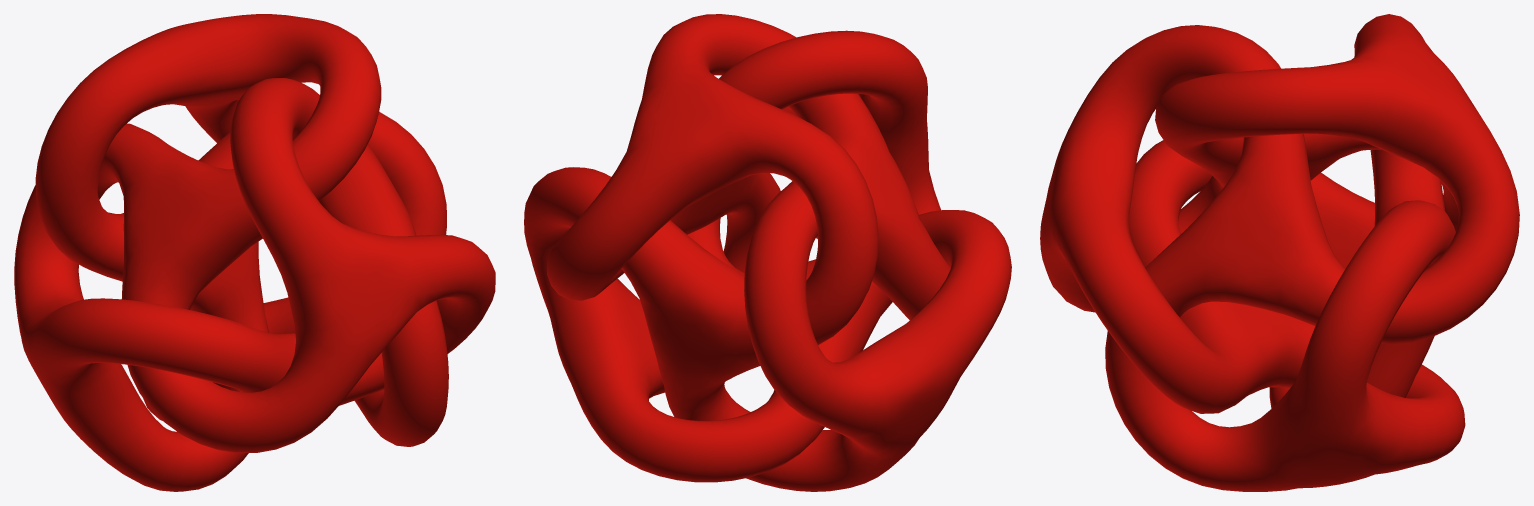
The model's file is prova.obj.
3 renders of one model, left to right at view 1: azimuth 30°, elevation 25°; view 2: azimuth 150°, elevation 25°; view 3: azimuth 270°, elevation 25°, orthographic. The views are drawn at different scales.
Parts seen in each view (by area): view 1: myobj_mymesh.069; view 2: myobj_mymesh.069; view 3: myobj_mymesh.069.
Part boxes in pixels (<box>): myobj_mymesh.069: <box>14,14,495,491</box>; myobj_mymesh.069: <box>524,14,1011,491</box>; myobj_mymesh.069: <box>1040,14,1519,491</box>.
Size of the model in its own units: 5.03 by 4.81 by 4.77.
